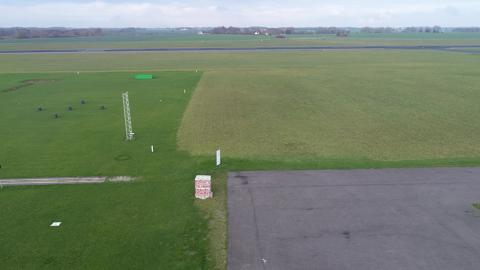RockwoolPallet: (194, 174, 213, 199)
